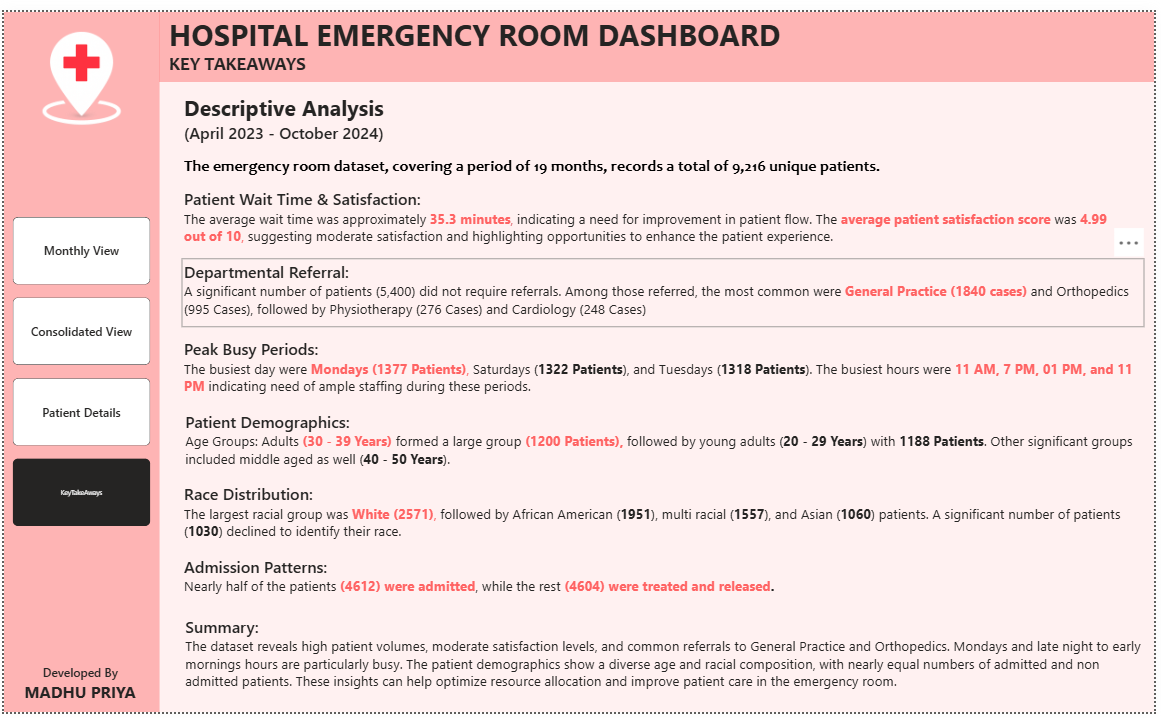

What the dashboard file says about the page in this screenshot:
{"tool":"powerbi","page":{"name":"KeyTakeAways","canvas":[2300,1400],"ordinal":3},"visuals":[{"type":"shape","box":[0,0,311.1,1400],"z":0},{"type":"shape","box":[309.2,0,1990.8,140],"z":1000},{"type":"textbox","box":[325.7,0,1245.9,90.4],"z":2000},{"type":"textbox","box":[325,75,307.5,65],"z":3000},{"type":"image","box":[30,10,250,237.5],"z":4000},{"type":"textbox","box":[355,157.5,490,125],"z":5000},{"type":"textbox","box":[355,282.5,1432.5,65],"z":6000},{"type":"textbox","box":[355,347.5,1897.5,145],"z":7000},{"type":"textbox","box":[355,492.5,1927.5,137.5],"z":8000},{"type":"textbox","box":[355,647.5,1927.5,145],"z":9000},{"type":"textbox","box":[357.5,792.5,1927.5,127.5],"z":10000},{"type":"textbox","box":[355,937.5,1927.5,125],"z":11000},{"type":"textbox","box":[355,1082.5,1927.5,100],"z":12000},{"type":"textbox","box":[357.5,1202.5,1927.5,170],"z":13000},{"type":"textbox","box":[0,1300,310,100],"z":14000},{"type":"pageNavigator","box":[17.5,410,275,620],"z":14001}]}

Visuals, with their boxes in screenshot pixels (x1, y1, x2, y2), scaled from the page's 2300x1400 canvas onto the 1161x718 screenshot:
shape: left=0, top=0, right=157, bottom=717
shape: left=156, top=0, right=1160, bottom=72
textbox: left=164, top=0, right=793, bottom=46
textbox: left=164, top=38, right=319, bottom=72
image: left=15, top=5, right=141, bottom=127
textbox: left=179, top=81, right=427, bottom=145
textbox: left=179, top=145, right=902, bottom=178
textbox: left=179, top=178, right=1137, bottom=253
textbox: left=179, top=253, right=1152, bottom=323
textbox: left=179, top=332, right=1152, bottom=406
textbox: left=180, top=406, right=1153, bottom=472
textbox: left=179, top=481, right=1152, bottom=545
textbox: left=179, top=555, right=1152, bottom=606
textbox: left=180, top=617, right=1153, bottom=704
textbox: left=0, top=667, right=156, bottom=717
pageNavigator: left=9, top=210, right=148, bottom=528
